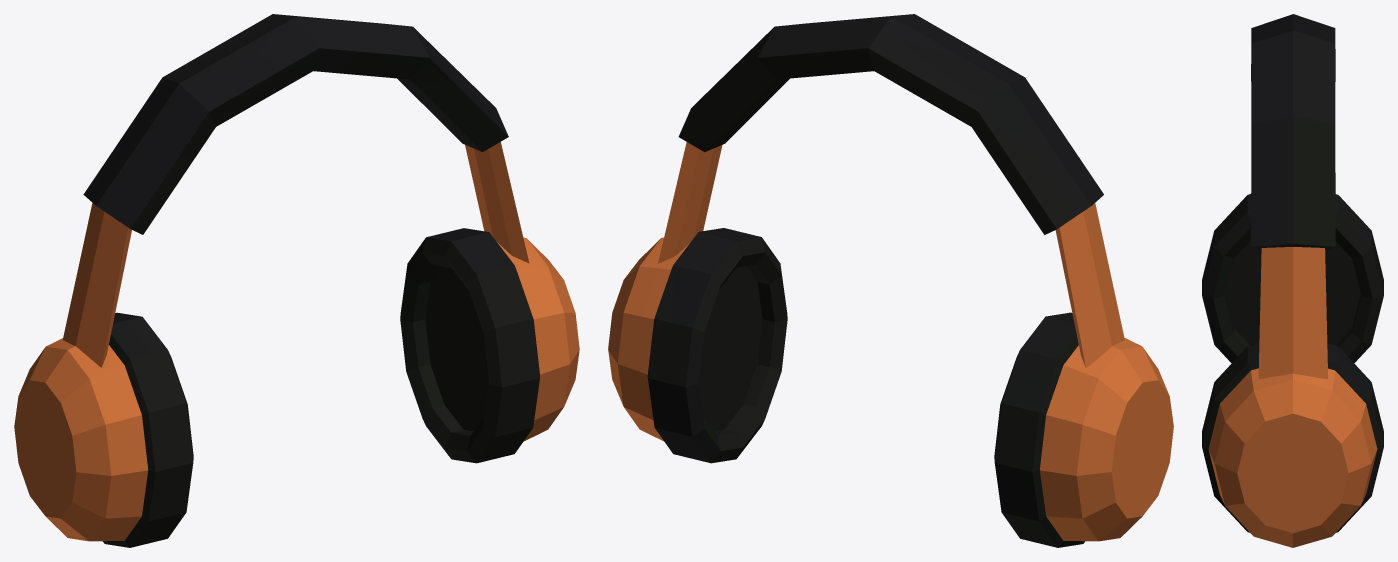
The model's file is headphones.glb.
3 views of the same model, side by side, from view 1: azimuth 30°, elevation 25°; view 2: azimuth 150°, elevation 25°; view 3: azimuth 270°, elevation 25° (orthographic). The views are drawn at different scales.
Visible parts, largest first — view 1: Headphones; view 2: Headphones; view 3: Headphones.
Boxes of the visible parts, x1,y1,x2,y2 form: Headphones: [14, 14, 579, 547]; Headphones: [608, 14, 1173, 547]; Headphones: [1202, 14, 1383, 547].
Size of the model in its own units: 2 by 1.82 by 0.6986.
Materials: 1 (1 with a texture image).
